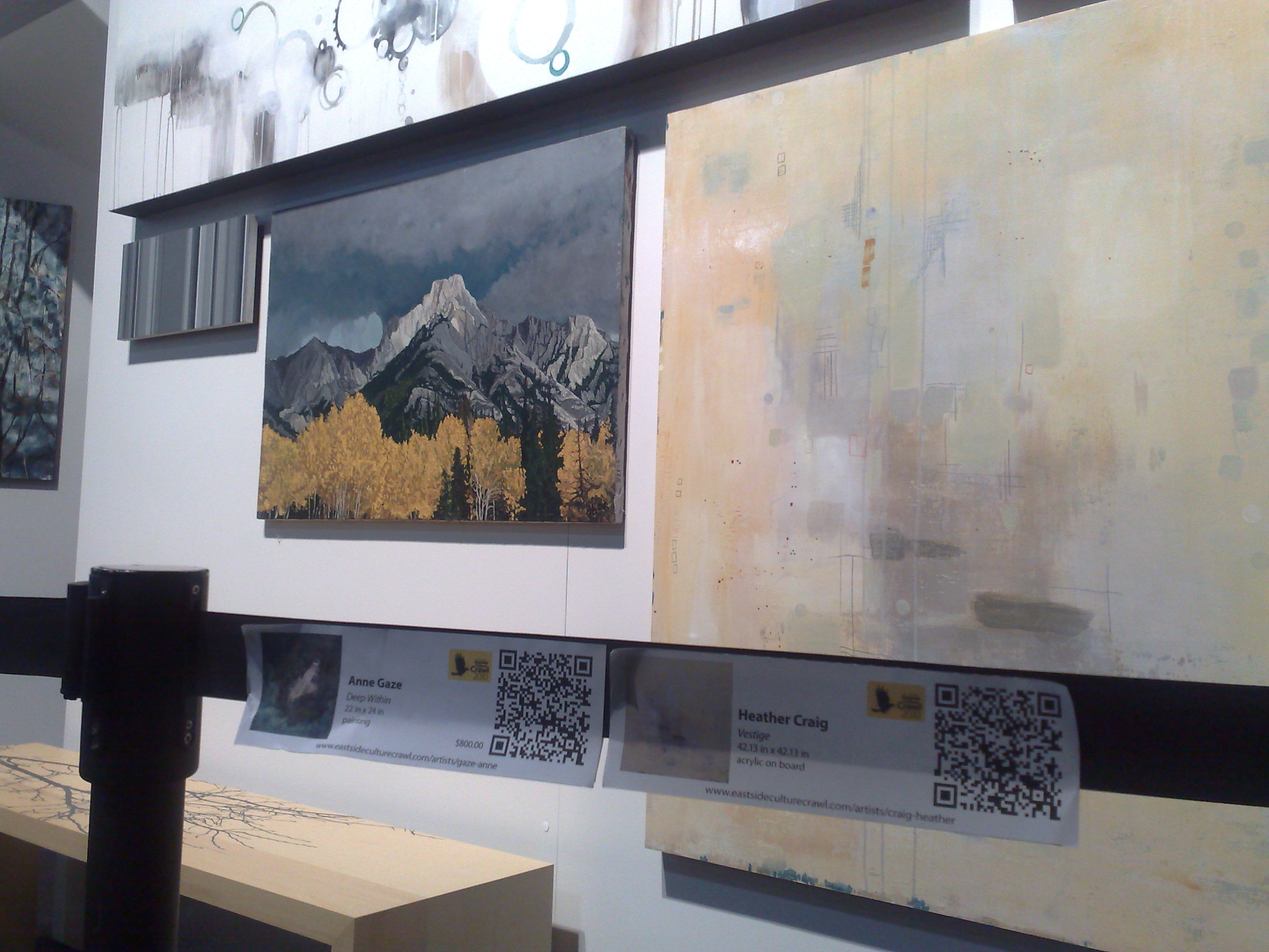QR-CODE: (933, 683, 1062, 821), (488, 649, 592, 765)
